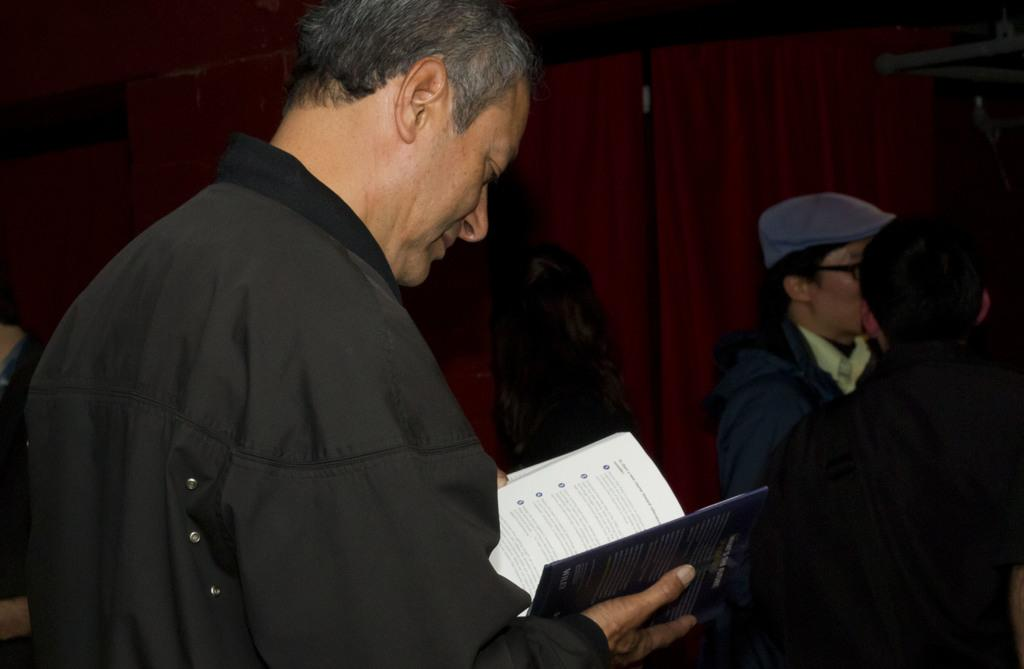Hat: (755, 193, 897, 270)
